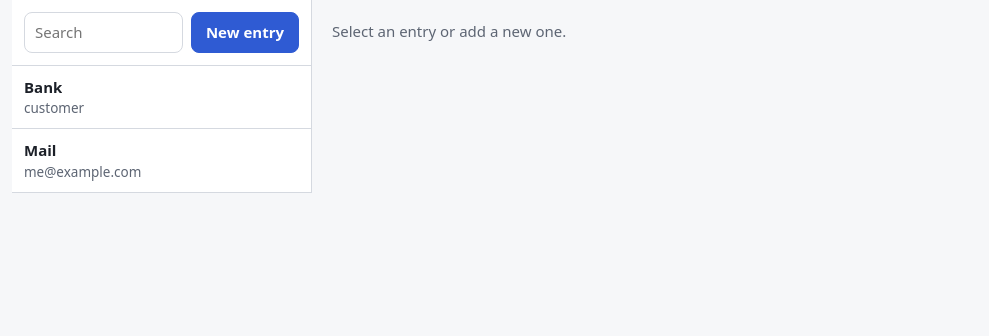
Test: PasswordsTab › shows an entry with the password masked until revealed
This screenshot has width=989, height=336.
Click the button "Mail me@example.com". click: [40, 150]
box: [12,129,311,193]
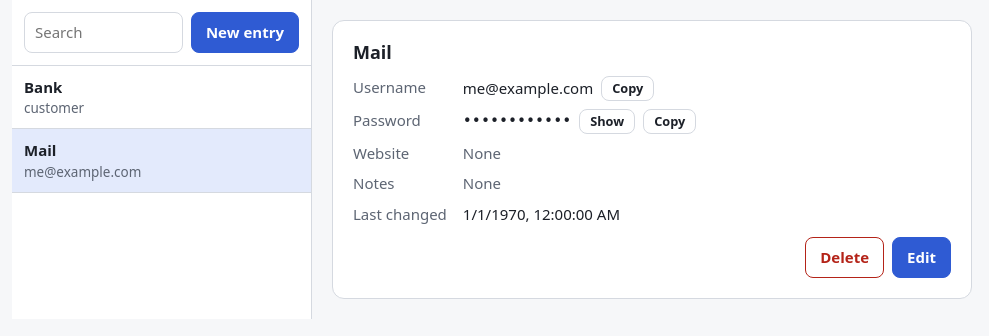
Expected: the text with test id "entry-password" does not show "mail-pass", [463,110,571,132]
Expected: the heading "Mail" is shown, [353,40,392,64]
Click the button "Show". click: [607, 121]
box: [579,109,635,134]
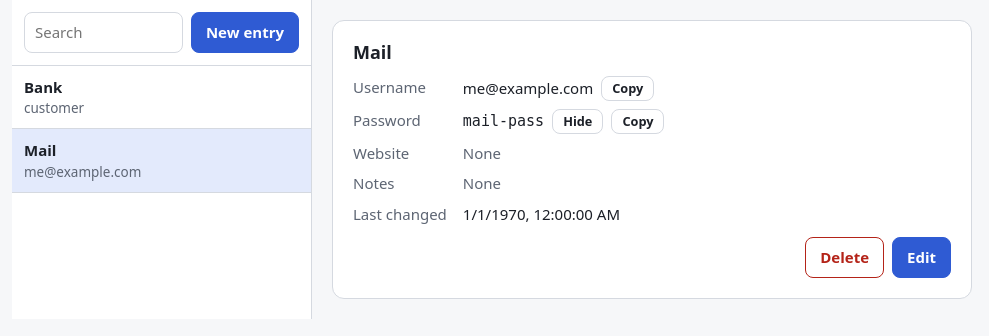
Expected: the text with test id "entry-password" reads "mail-pass", [463,112,544,130]
